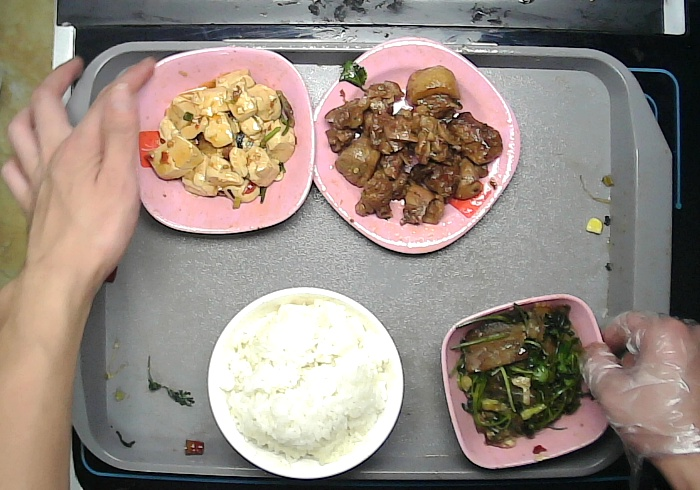SHKJ-Fan_Wan: (207, 286, 406, 479)
SHKJ-Fen_Se_Cai_Die: (122, 46, 315, 235)
SHKJ-Fen_Se_Si_Fang_Cai_Die: (303, 35, 522, 253)
SHKJ-Fen_Se_Xiao_Fang_Die: (441, 291, 615, 471)
